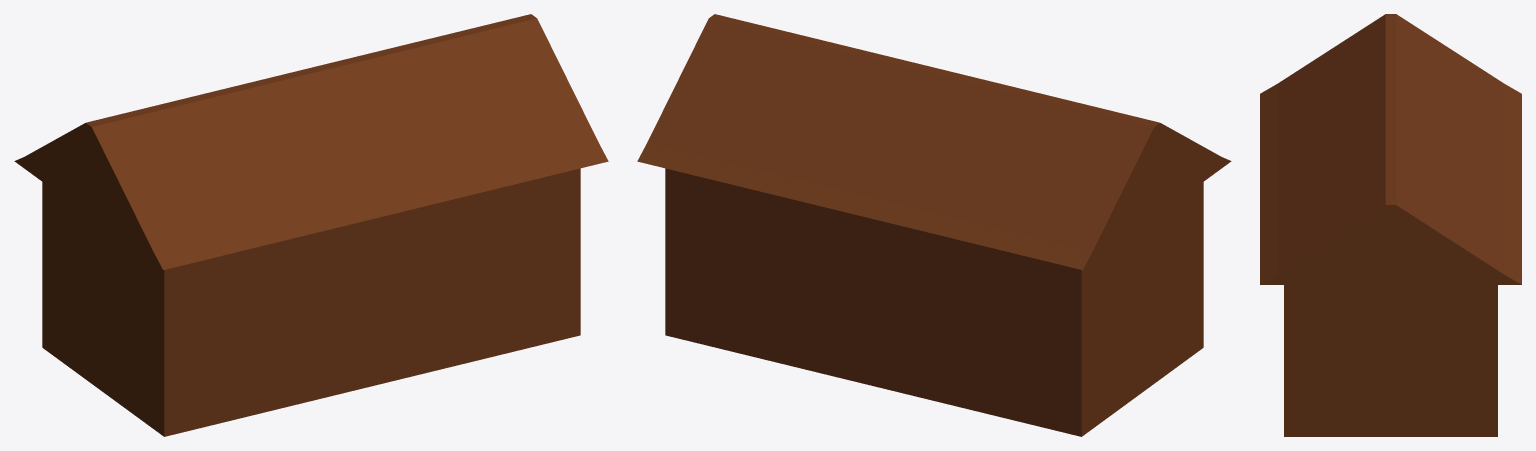
File: domcek.fbx
3 views of the same model, side by side, from view 1: azimuth 30°, elevation 25°; view 2: azimuth 150°, elevation 25°; view 3: azimuth 270°, elevation 25° (orthographic). The views are drawn at different scales.
Visible parts, largest first — view 1: Cube; view 2: Cube; view 3: Cube.
Part boxes in pixels (<box>): Cube: <box>14,14,608,436</box>; Cube: <box>637,14,1231,436</box>; Cube: <box>1260,14,1521,436</box>.
Bounding box in the file's own units: 498 × 860 × 500.
